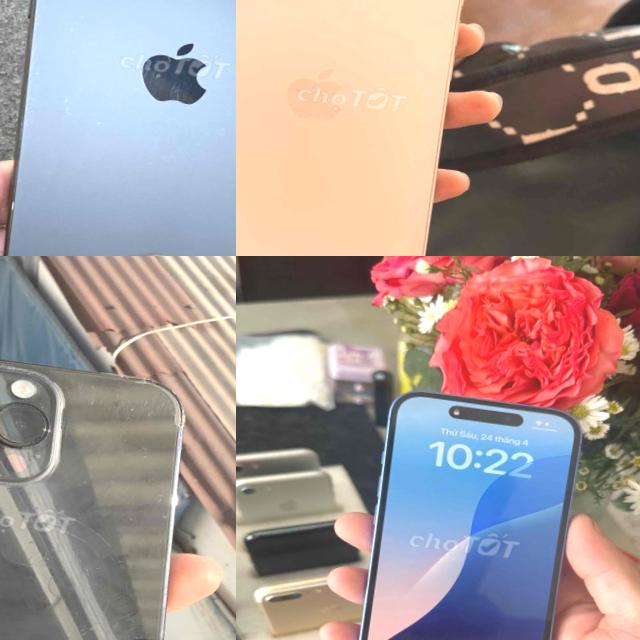gen_12_13: (236, 0, 482, 256)
gen_14: (0, 331, 224, 640)
gen_15: (0, 0, 236, 256)
gen_16: (359, 392, 581, 640)
